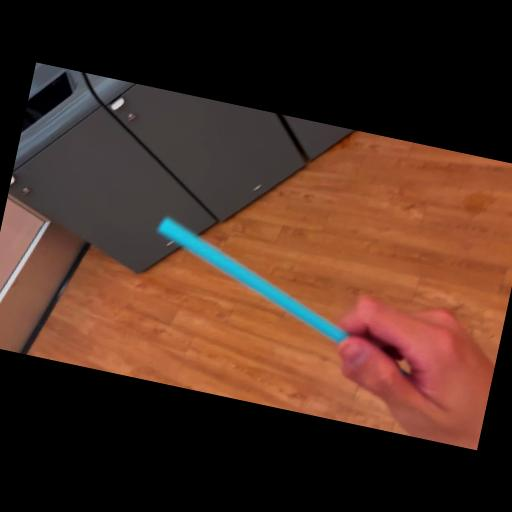straw: (128, 194, 414, 378)
